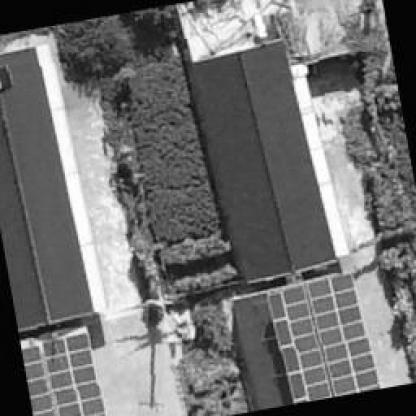solar-pv-panel: (267, 270, 382, 404), (21, 331, 106, 416)
